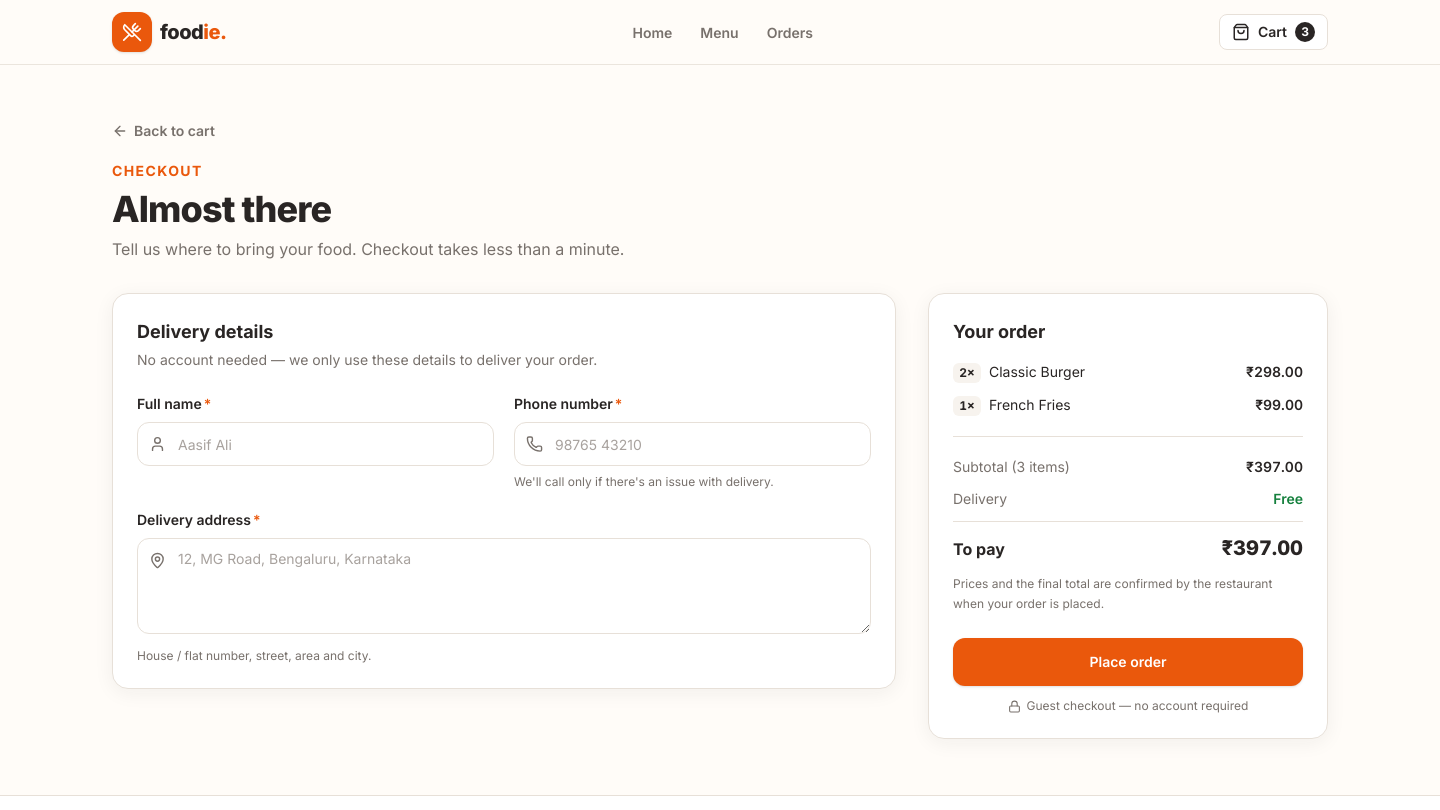
Test: Checkout page › shows inline validation errors and does not submit invalid details
Click the button "Place order".
click(1128, 662)  # box [953, 638, 1303, 686]
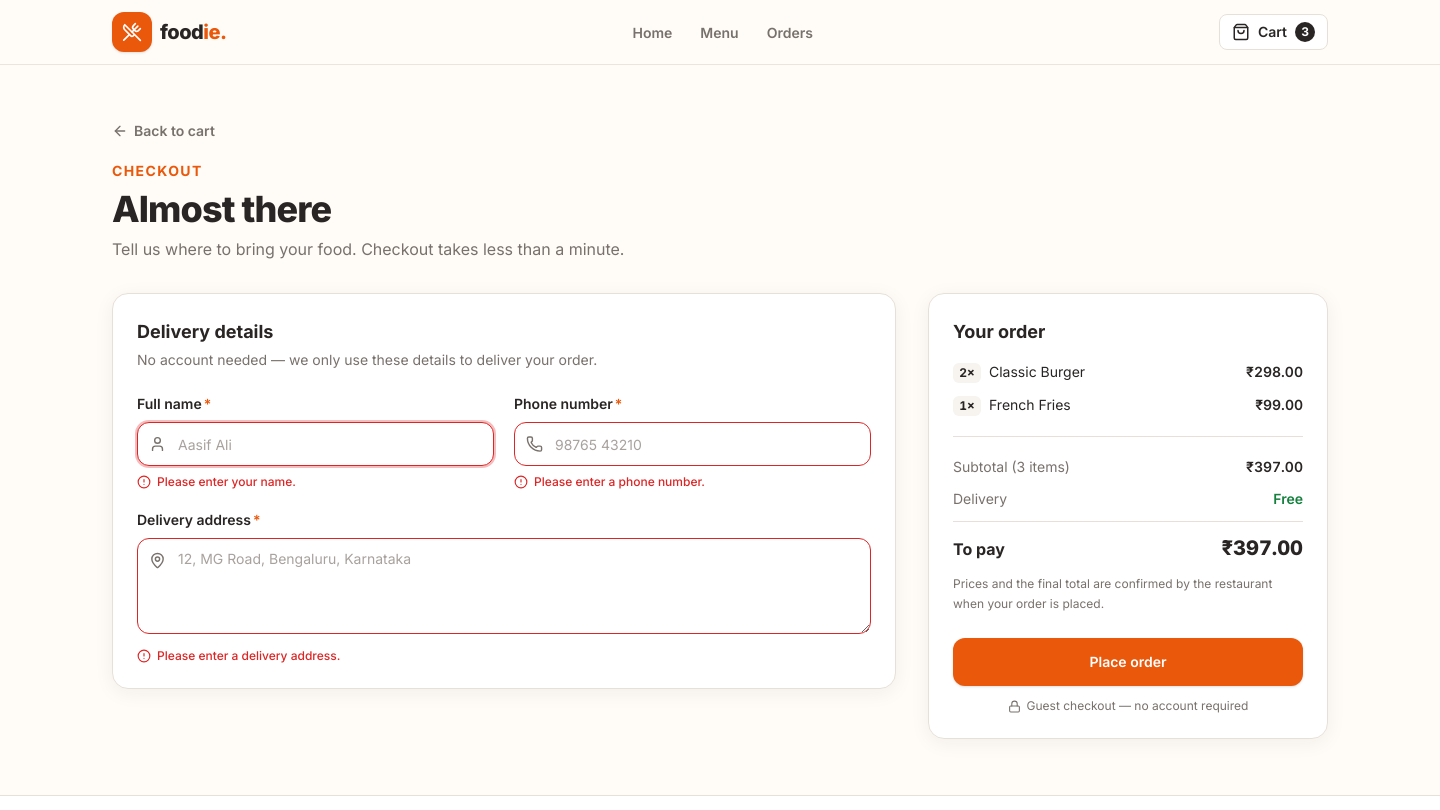
Expected: the text "Please enter your name." is shown, [137, 474, 296, 489]
Expected: the text "Please enter a phone number." is shown, [514, 474, 705, 489]
Expected: the text "Please enter a delivery address." is shown, [137, 648, 340, 663]
Type "12345" into the field labelled "Phone number*".
click(692, 444); type("12345")  # box [514, 422, 871, 466]
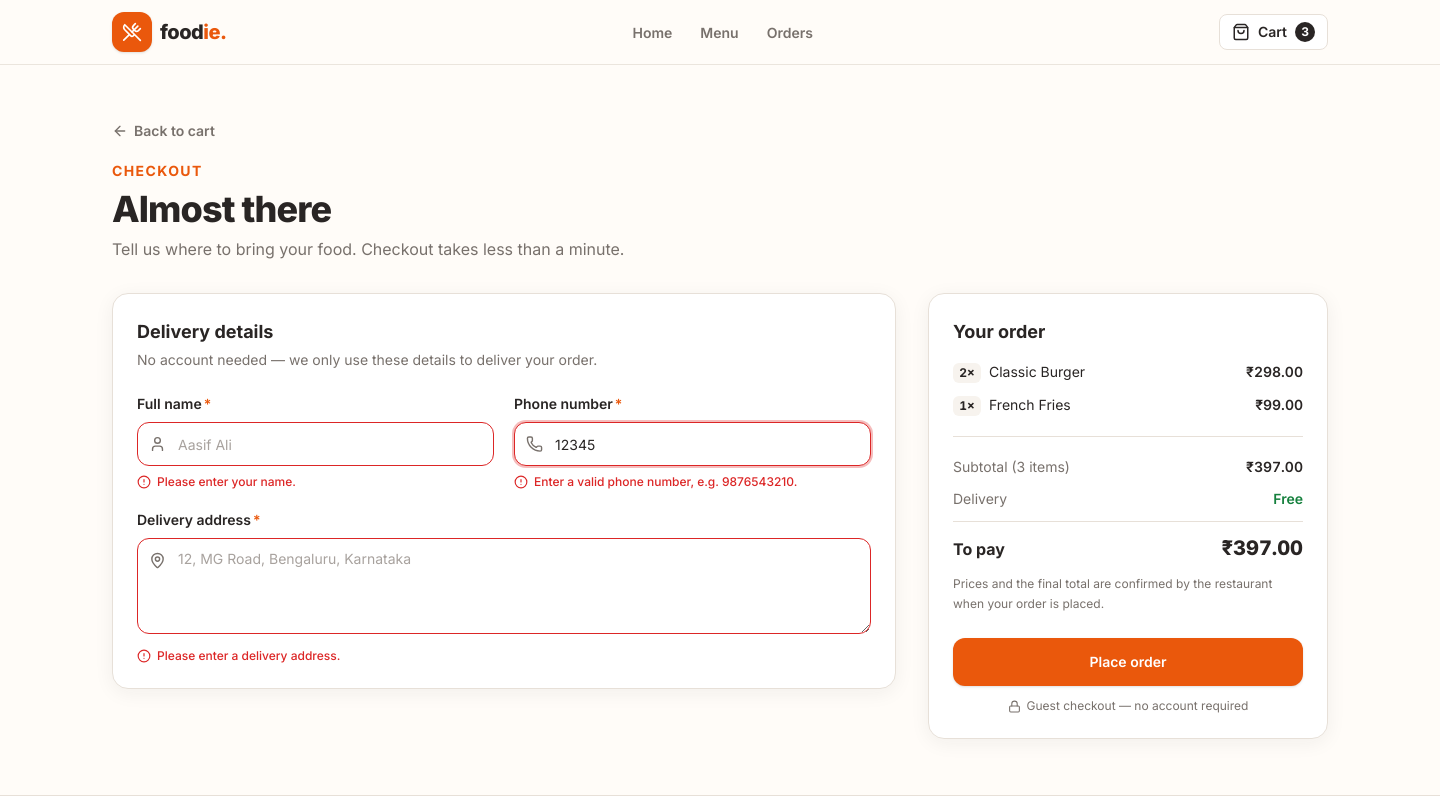
Expected: the text "Enter a valid phone number, e.g. 9876543210." is shown, [514, 474, 797, 489]
